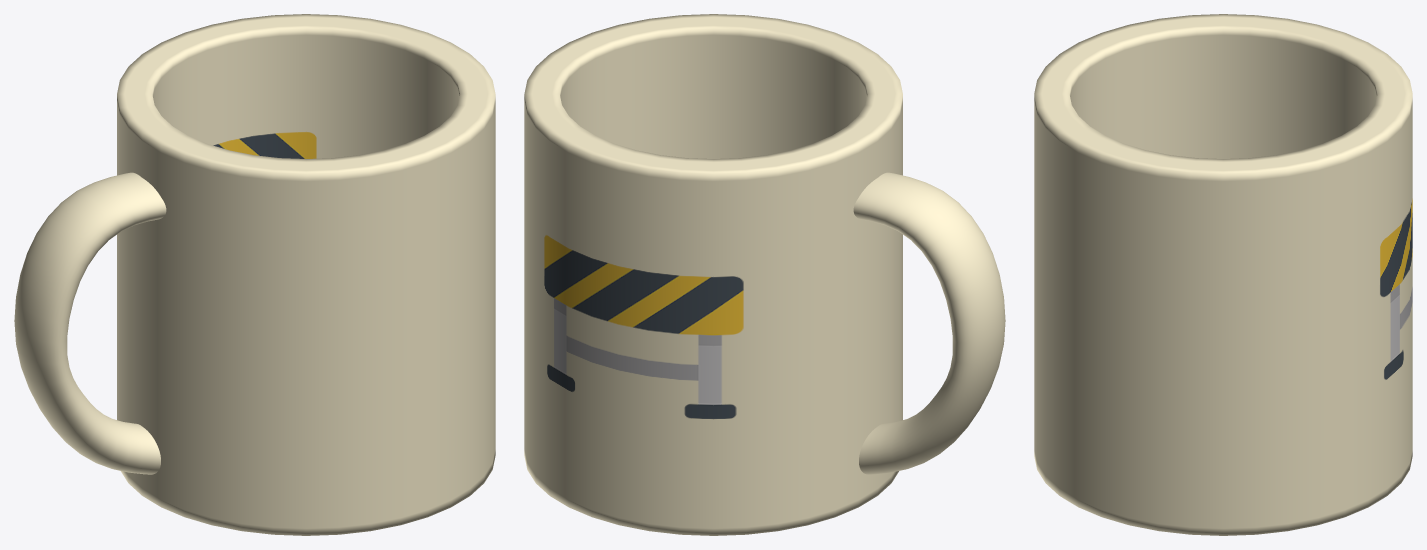
The model's file is cup.fbx.
3 views of the same model, side by side, from view 1: azimuth 30°, elevation 25°; view 2: azimuth 150°, elevation 25°; view 3: azimuth 270°, elevation 25° (orthographic).
Parts seen in each view (by area): view 1: Cylinder002, Cylinder003; view 2: Cylinder002, Cylinder003; view 3: Cylinder002.
Boxes of the visible parts, x1,y1,x2,y2 form: Cylinder002: [117, 14, 495, 535]; Cylinder003: [14, 172, 166, 474]; Cylinder002: [524, 14, 902, 535]; Cylinder003: [853, 172, 1005, 474]; Cylinder002: [1034, 14, 1412, 535].
Bounding box in the file's own units: 91.58 × 70.78 × 67.07.
Materials: 2 (2 with a texture image).
